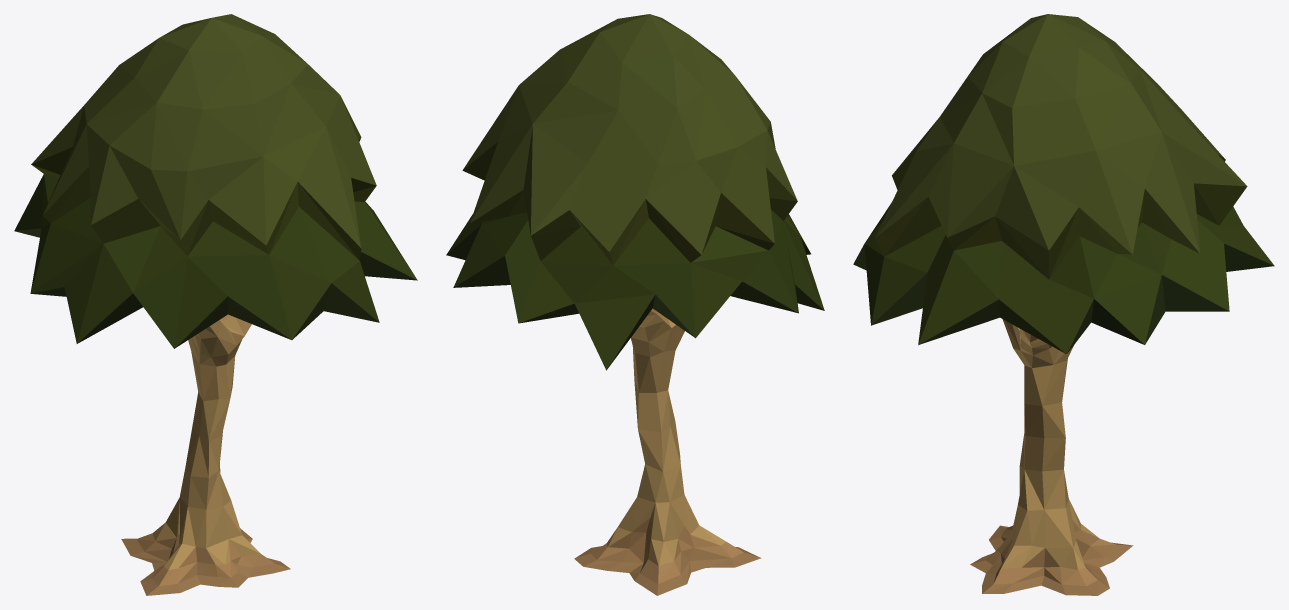
Rendered from hardwood-tree.gltf.
The picture shows the model from 3 angles, left to right: view 1: azimuth 30°, elevation 25°; view 2: azimuth 150°, elevation 25°; view 3: azimuth 270°, elevation 25°; orthographic projection. The views are drawn at different scales.
Bounding box in the file's own units: 426 × 652 × 448.
Materials: 1 (1 with a texture image).
